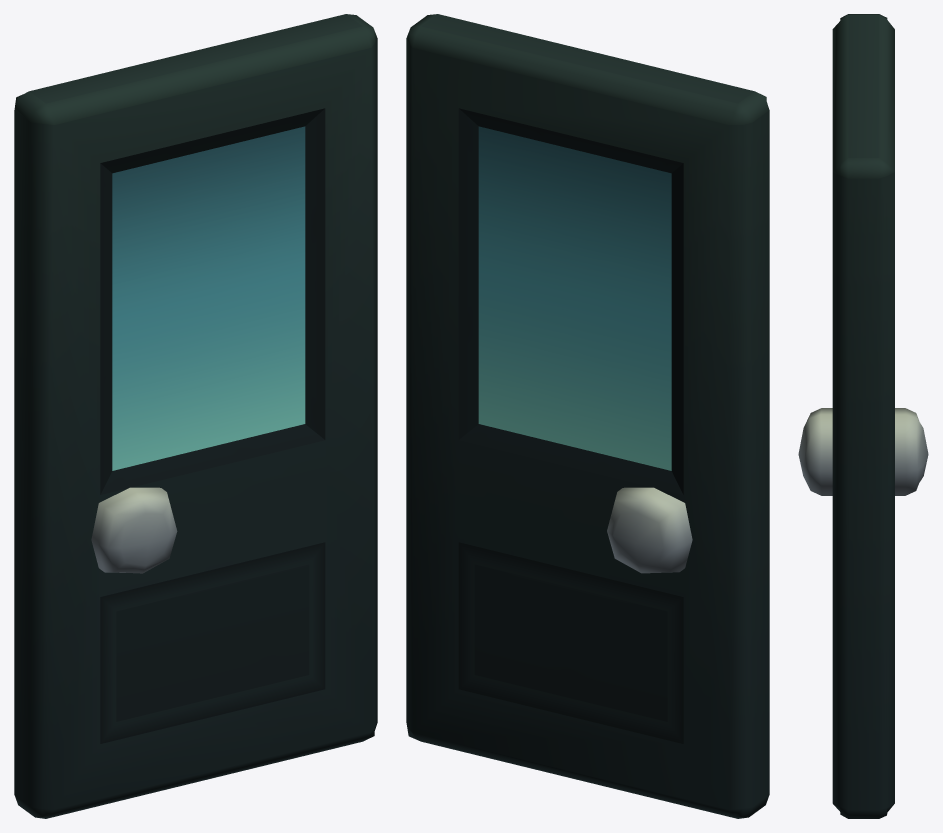
File: door_appartment_dark_LOD_setup.fbx
The picture shows the model from 3 angles, left to right: view 1: azimuth 30°, elevation 25°; view 2: azimuth 150°, elevation 25°; view 3: azimuth 270°, elevation 25°; orthographic projection. The views are drawn at different scales.
Parts seen in each view (by area): view 1: door_appartment_dark_LOD0; view 2: door_appartment_dark_LOD0; view 3: door_appartment_dark_LOD0.
Part boxes in pixels (left/top/right/bottom): door_appartment_dark_LOD0: left=14, top=14, right=377, bottom=818; door_appartment_dark_LOD0: left=406, top=14, right=769, bottom=818; door_appartment_dark_LOD0: left=798, top=14, right=928, bottom=818.
Size of what is drawn, in the model's own units: 104 by 206 by 36.84.
